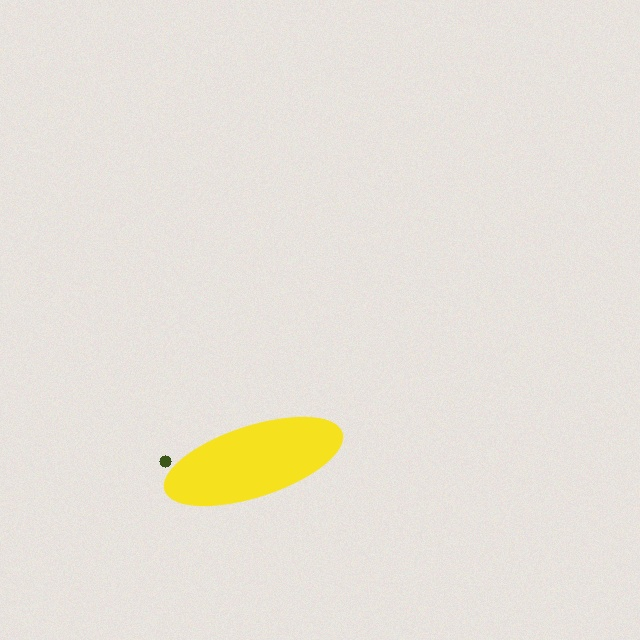Fresh banana: (156, 418, 350, 504)
